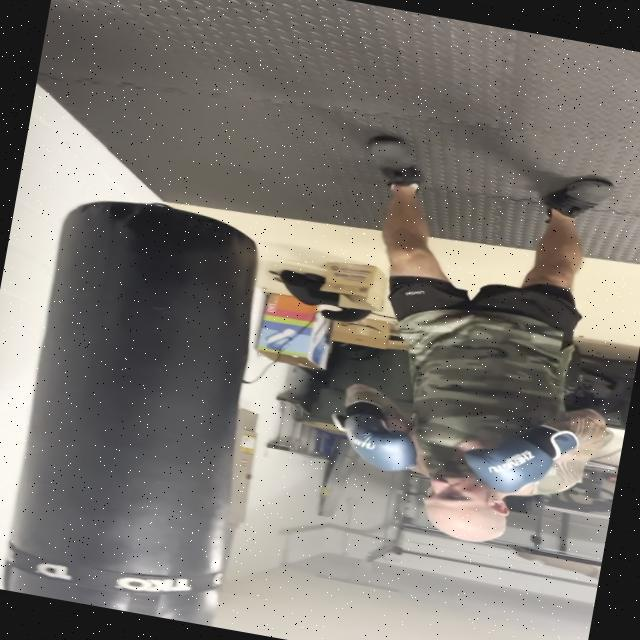no punch: (315, 357, 592, 564)
